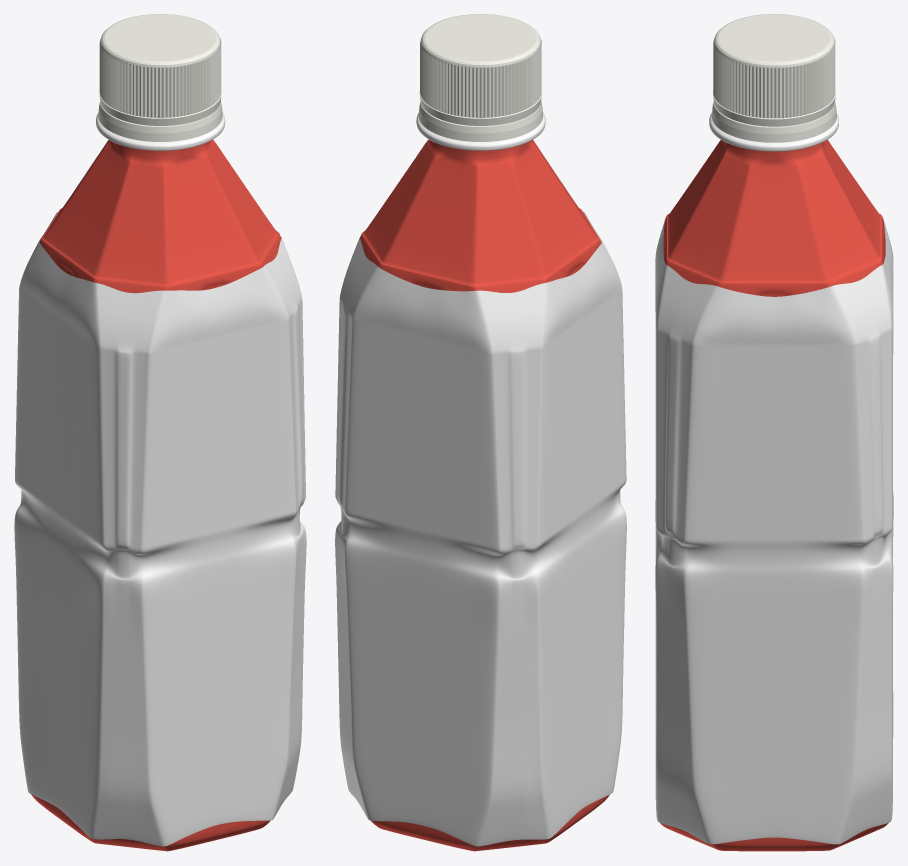
File: pet-500-full-label.glb
The picture shows the model from 3 angles, left to right: view 1: azimuth 30°, elevation 25°; view 2: azimuth 150°, elevation 25°; view 3: azimuth 270°, elevation 25°; orthographic projection.
Visible parts, largest first — view 1: Label, Water, PlasticCap, body bottle; view 2: Label, Water, PlasticCap, body bottle; view 3: Label, Water, PlasticCap, body bottle.
Boxes of the visible parts, x1,y1,x2,y2 form: Label: (14,212,306,846); Water: (31,139,281,851); PlasticCap: (98,14,222,141); body bottle: (96,113,225,150); Label: (335,212,626,846); Water: (360,139,609,851); PlasticCap: (418,14,543,141); body bottle: (416,112,545,150); Label: (655,216,893,844); Water: (660,140,888,851); PlasticCap: (711,14,836,142); body bottle: (709,113,838,151).
Size of the model in its own units: 0.0586 by 0.2086 by 0.0586.
